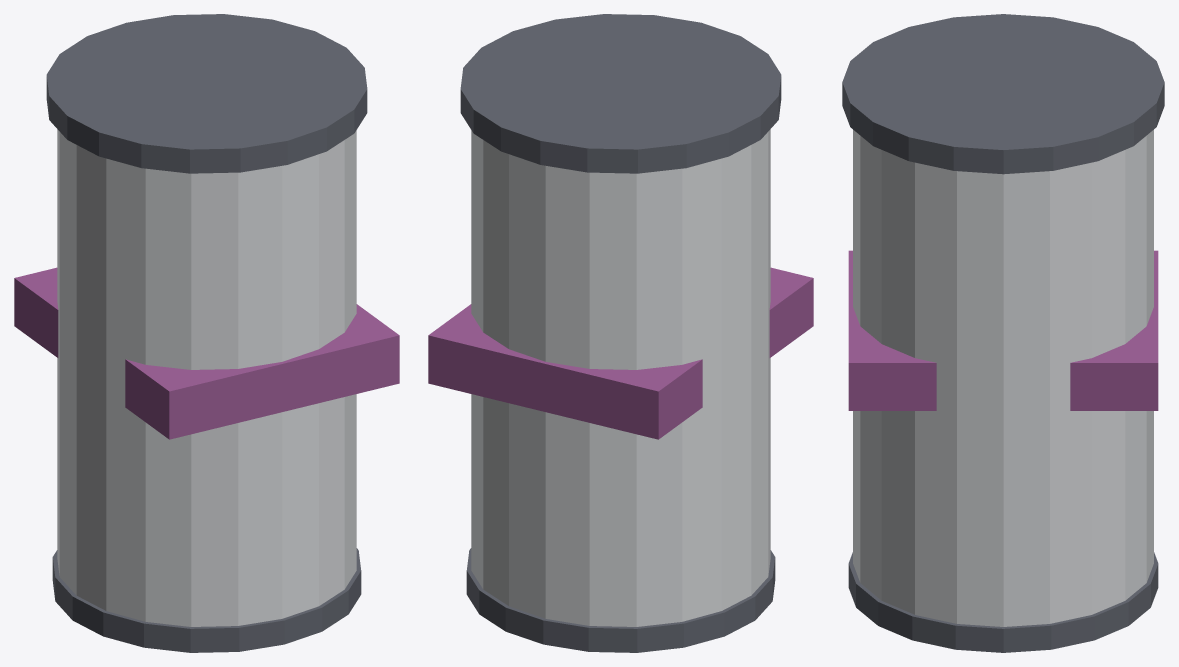
File: pharmacy-and-high-street-chemist-open-top-waste-bin-e67d648d__37523.glb
The picture shows the model from 3 angles, left to right: view 1: azimuth 30°, elevation 25°; view 2: azimuth 150°, elevation 25°; view 3: azimuth 270°, elevation 25°; orthographic projection.
Visible parts, largest first — view 1: open-top-waste-bin; view 2: open-top-waste-bin; view 3: open-top-waste-bin.
Boxes of the visible parts, x1,y1,x2,y2 form: open-top-waste-bin: (14, 14, 399, 652); open-top-waste-bin: (428, 14, 813, 652); open-top-waste-bin: (842, 14, 1164, 652).
Bounding box in the file's own units: 0.364 × 0.63 × 0.364.
